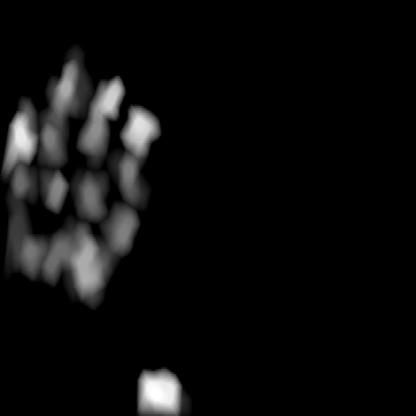fingers: (135, 366, 182, 414)
palm: (7, 67, 155, 204)
thumb: (4, 210, 138, 318)
